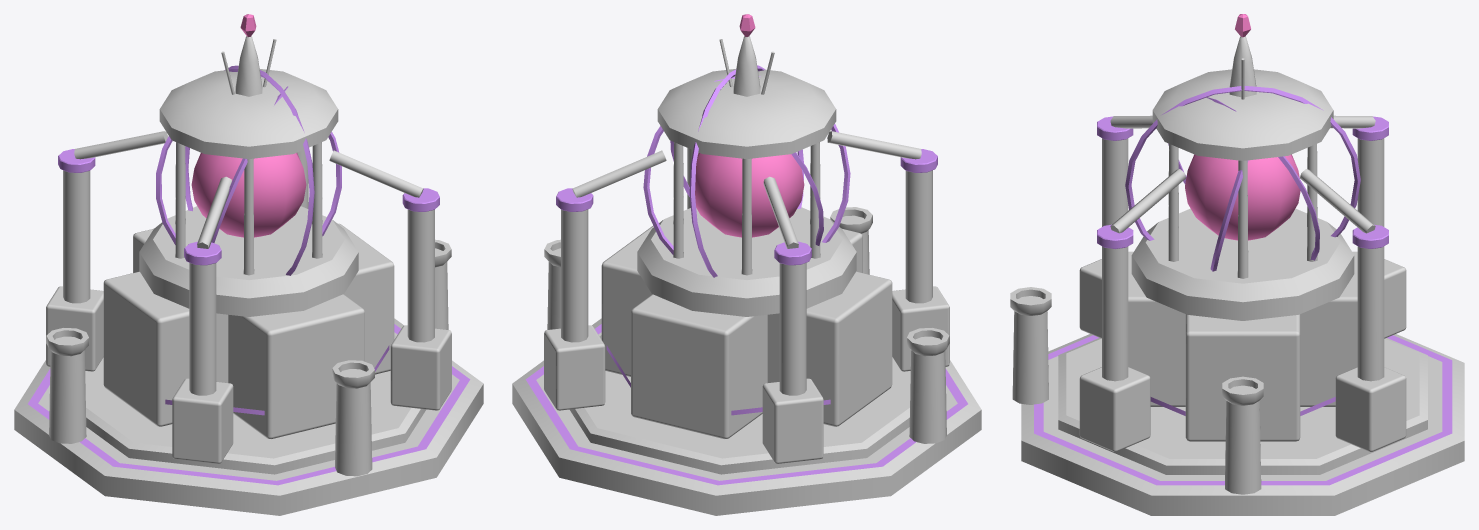
The model's file is DoomEngine.glb.
3 views of the same model, side by side, from view 1: azimuth 30°, elevation 25°; view 2: azimuth 150°, elevation 25°; view 3: azimuth 270°, elevation 25° (orthographic).
Visible parts, largest first — view 1: Body, Glow, Pink; view 2: Body, Glow, Pink; view 3: Body, Glow, Pink.
Boxes of the visible parts, box(x1,y1,x2,y2) form: Body: box(14, 36, 483, 515); Glow: box(28, 65, 470, 485); Pink: box(191, 14, 306, 237); Body: box(512, 36, 981, 515); Glow: box(525, 65, 967, 485); Pink: box(689, 14, 804, 237); Body: box(1010, 36, 1464, 515); Glow: box(1034, 86, 1452, 485); Pink: box(1185, 14, 1300, 240).
Size of the model in its own units: 26.9 by 25.9 by 26.14.
